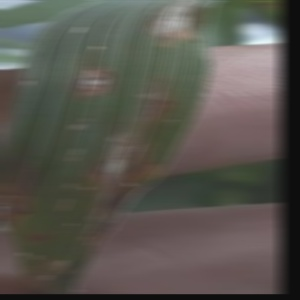Brown_Spot: (83, 121, 162, 185), (152, 0, 210, 55), (73, 58, 118, 101), (0, 170, 31, 227), (24, 223, 56, 246)
